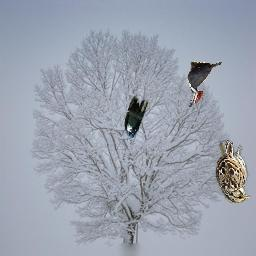Sparrow: (216, 141, 253, 204)
Swallow: (124, 94, 149, 138)
Woodpecker: (188, 61, 223, 107)
